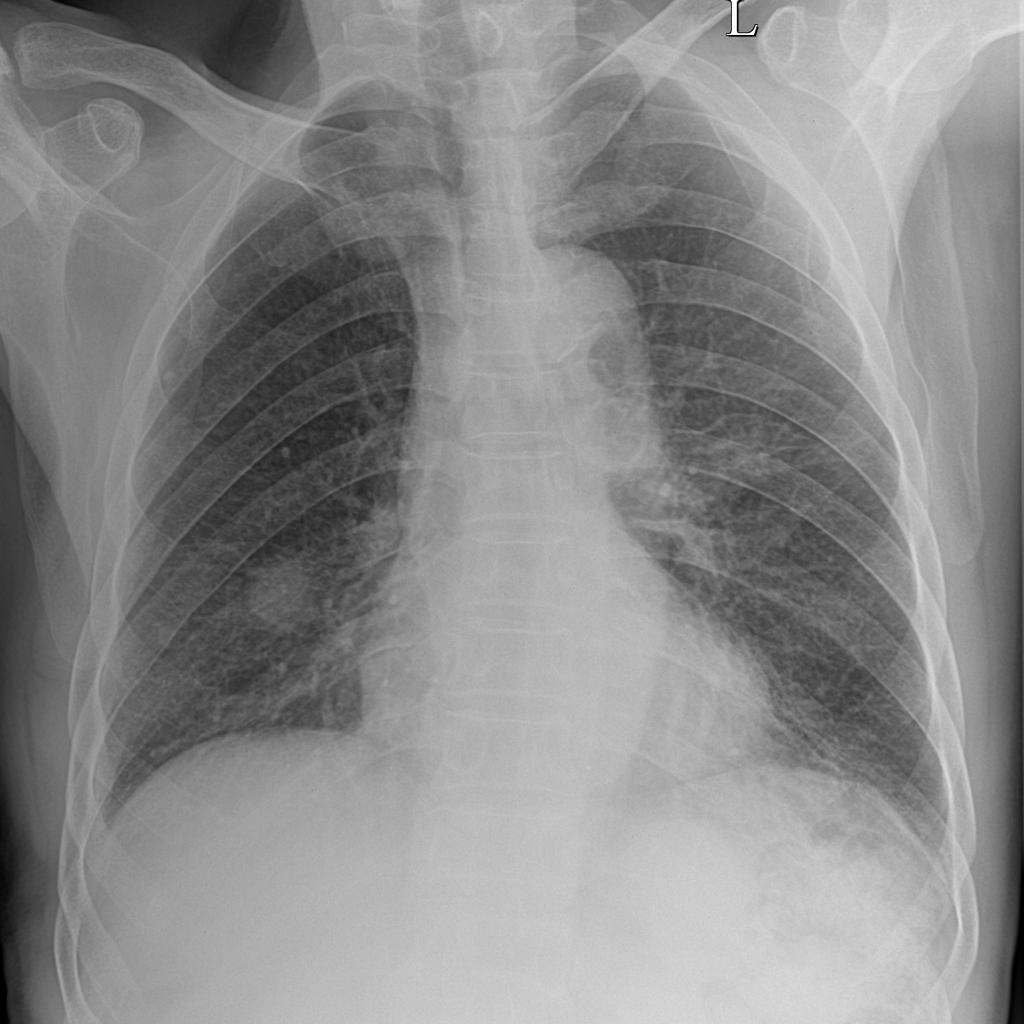Nodule: (227, 544, 328, 640)
